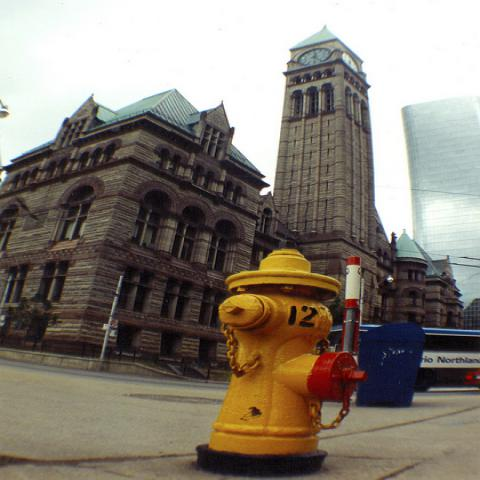bus: (329, 324, 479, 392)
